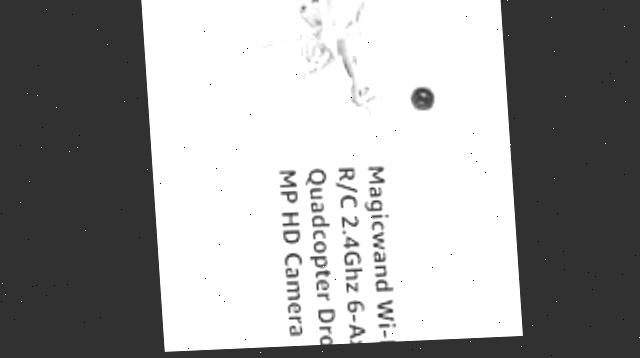drone: (244, 0, 423, 138)
